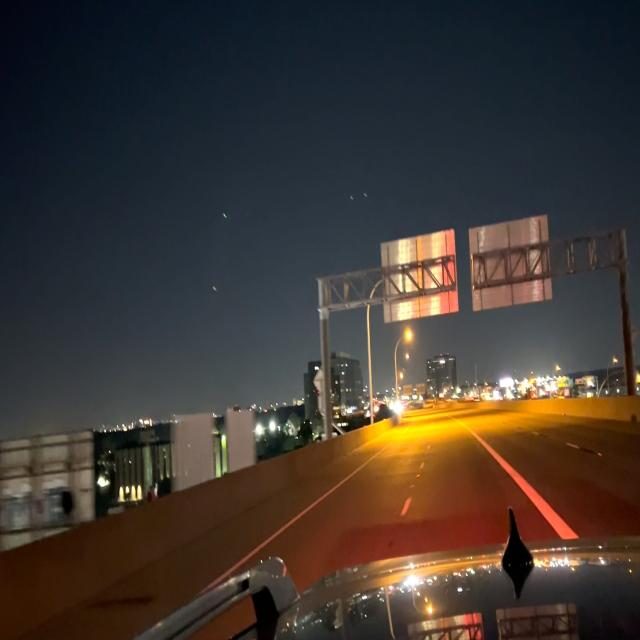back-of-sign: (465, 215, 556, 317), (375, 230, 459, 323)
